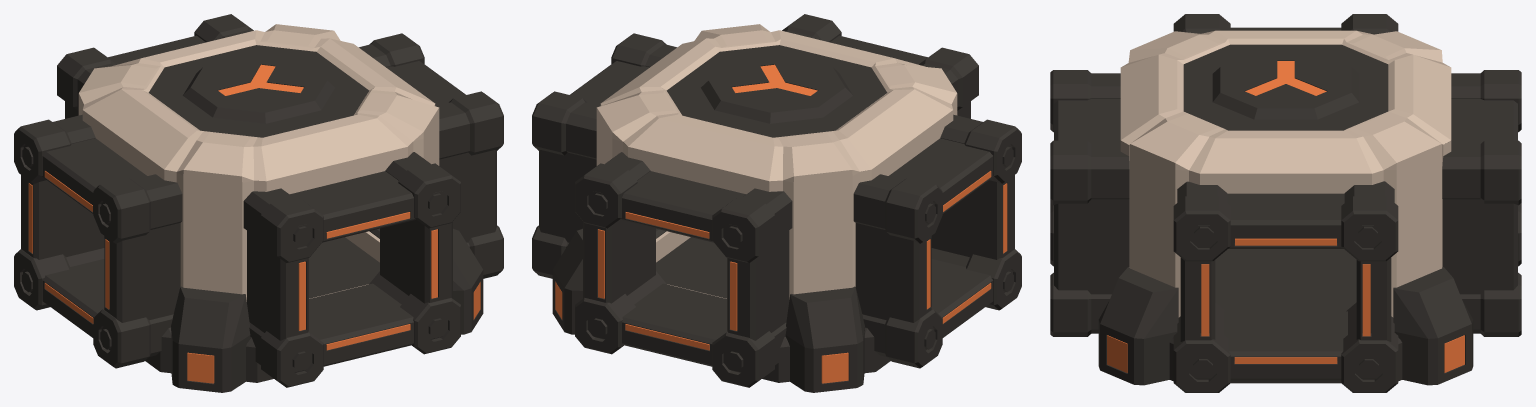
File: Splitter.fbx
3 views of the same model, side by side, from view 1: azimuth 30°, elevation 25°; view 2: azimuth 150°, elevation 25°; view 3: azimuth 270°, elevation 25° (orthographic). The views are drawn at different scales.
Visible parts, largest first — view 1: Body, Port.003, Port.001, Head, Base, Port, Light, Port.002; view 2: Body, Port.002, Port.001, Head, Base, Port, Light, Port.003; view 3: Body, Port, Base, Port.003, Port.002, Head, Light, Port.001.
Boxes of the visible parts, <box> form: Body: <box>78,24,439,301</box>; Port.003: <box>243,152,460,387</box>; Port.001: <box>14,114,182,368</box>; Head: <box>148,45,369,137</box>; Base: <box>145,228,483,392</box>; Port: <box>359,33,503,278</box>; Light: <box>28,64,480,383</box>; Port.002: <box>57,14,253,118</box>; Body: <box>596,24,957,299</box>; Port.002: <box>575,152,792,387</box>; Port.001: <box>853,114,1021,368</box>; Head: <box>666,45,887,137</box>; Base: <box>552,228,890,392</box>; Port: <box>532,33,676,278</box>; Light: <box>555,64,1007,383</box>; Port.003: <box>782,14,978,118</box>; Body: <box>1120,30,1451,317</box>; Port: <box>1173,181,1398,392</box>; Base: <box>1098,249,1473,385</box>; Port.003: <box>1050,70,1129,336</box>; Port.002: <box>1442,70,1521,336</box>; Head: <box>1183,44,1388,130</box>; Light: <box>1107,61,1464,372</box>; Port.001: <box>1173,14,1398,34</box>.
Bounding box in the file's own units: 1.01 × 0.5353 × 1.01.
Materials: 1 (1 with a texture image).
